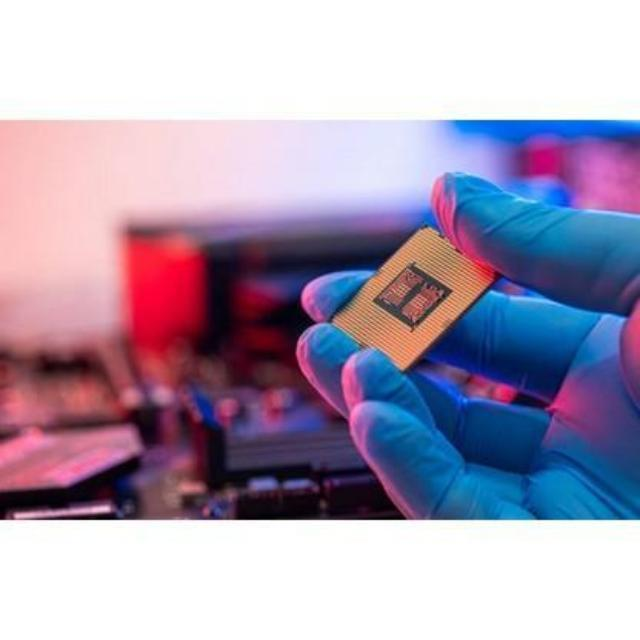CPU: (326, 220, 504, 374)
